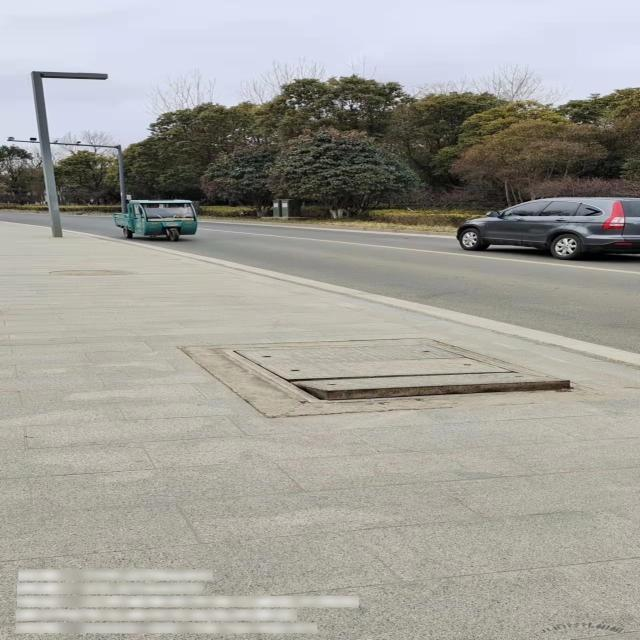Faulty: (212, 338, 576, 405)
